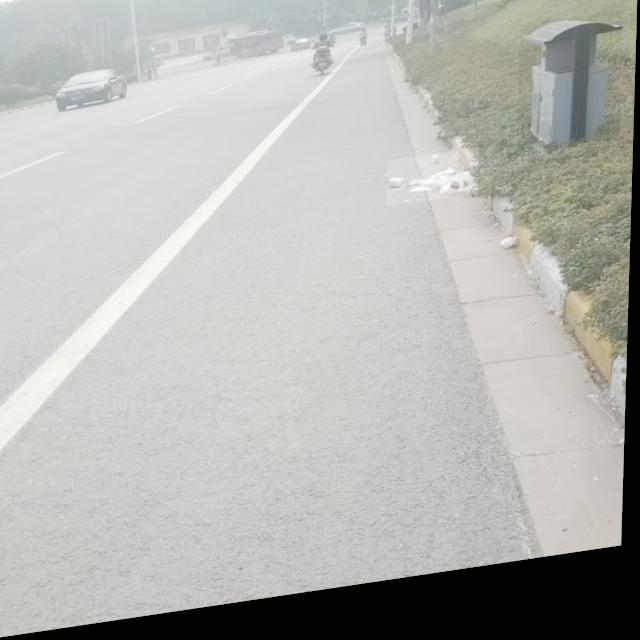garbage: (388, 162, 481, 219)
garbage_bin: (518, 29, 624, 173)
